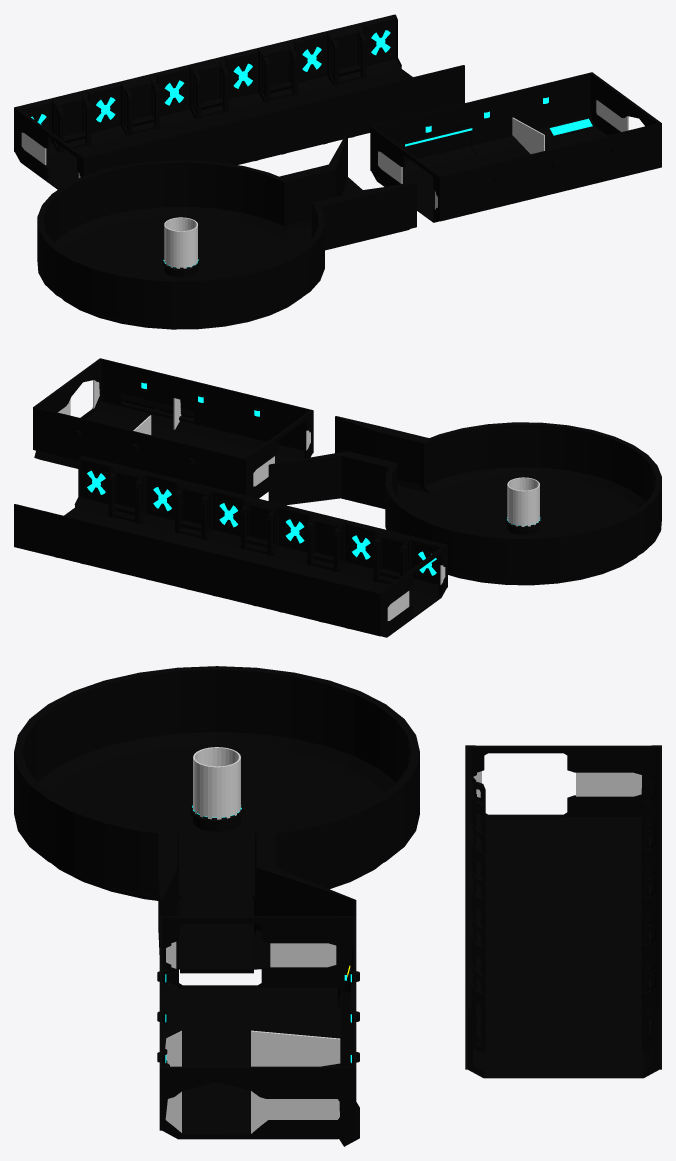
The model's file is 3room (1).fbx.
The picture shows the model from 3 angles, top to bottom: view 1: azimuth 30°, elevation 25°; view 2: azimuth 150°, elevation 25°; view 3: azimuth 270°, elevation 25°; orthographic projection. The views are drawn at different scales.
Parts seen in each view (by area): view 1: Cube.016, Cube.014, Cube, Cube.013, Cube.024, Cube.025, Cube.023, Cube.021, Cube.022; view 2: Cube.016, Cube.014, Cube, Cube.015, Cube.019, Cube.017, Cube.018, Cube.020, Cube.013; view 3: Cube.016, Cube.014, Cube, Cube.013.
Part boxes in pixels (<box>): Cube.016: <box>37,132,416,329</box>; Cube.014: <box>14,14,464,189</box>; Cube: <box>370,72,661,222</box>; Cube.013: <box>512,117,544,153</box>; Cube.024: <box>261,50,297,102</box>; Cube.025: <box>330,33,366,85</box>; Cube.023: <box>193,67,228,119</box>; Cube.021: <box>55,100,91,152</box>; Cube.022: <box>125,83,159,135</box>; Cube.016: <box>268,416,661,585</box>; Cube.014: <box>14,455,447,637</box>; Cube: <box>33,358,313,498</box>; Cube.015: <box>108,473,142,523</box>; Cube.019: <box>307,522,340,572</box>; Cube.017: <box>175,489,209,539</box>; Cube.018: <box>241,505,274,555</box>; Cube.020: <box>373,538,407,581</box>; Cube.013: <box>133,398,181,434</box>; Cube.016: <box>14,666,419,973</box>; Cube.014: <box>465,745,661,1078</box>; Cube: <box>159,916,359,1146</box>; Cube.013: <box>165,1030,340,1066</box>.
Size of the model in its own units: 20141 by 1872 by 13701.
